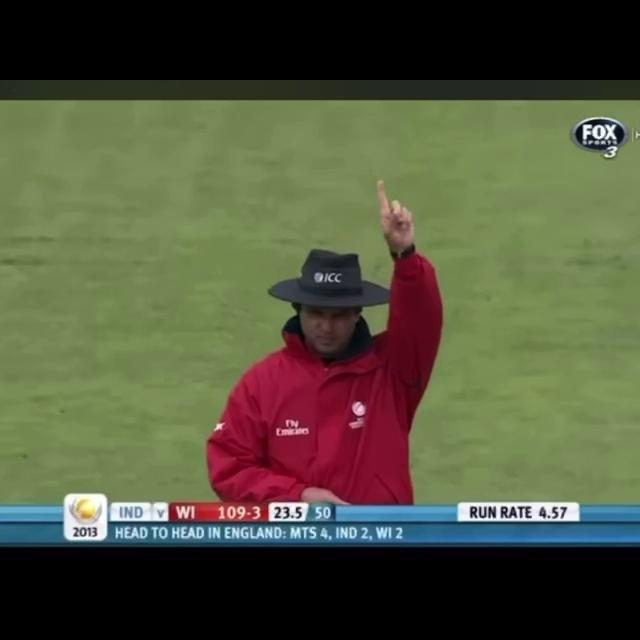umpire: (202, 170, 452, 498)
